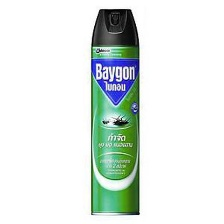aerosol_cans: (87, 5, 143, 217)
